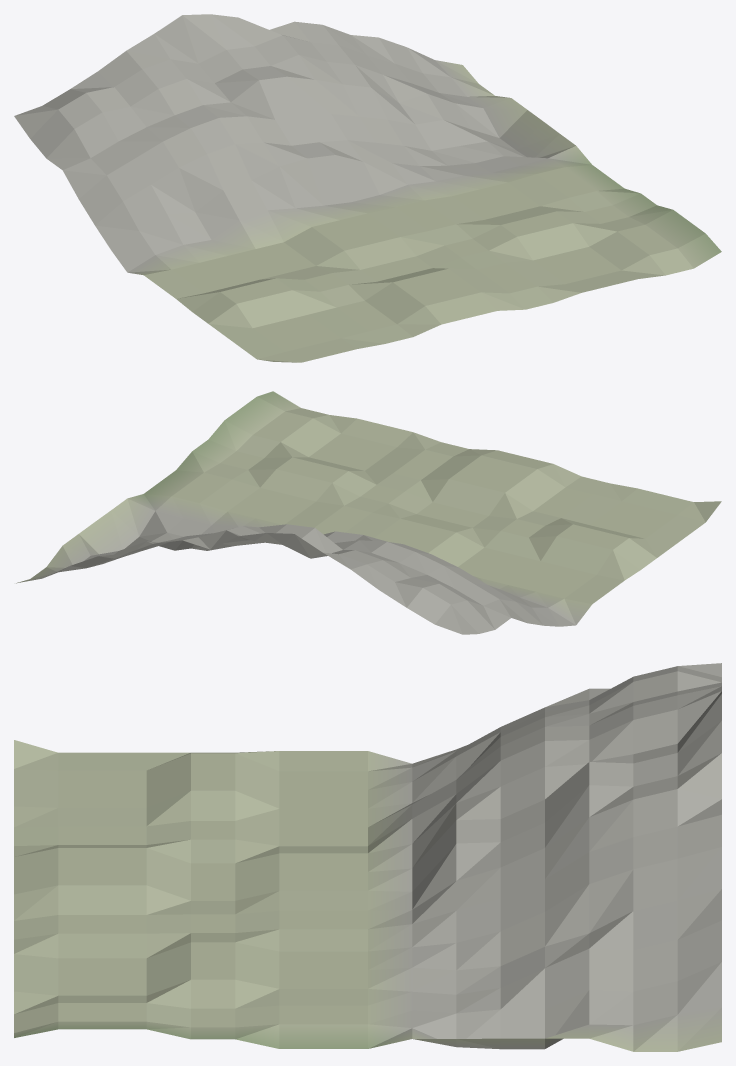
The picture shows the model from 3 angles, top to bottom: view 1: azimuth 30°, elevation 25°; view 2: azimuth 150°, elevation 25°; view 3: azimuth 270°, elevation 25°; orthographic projection. The views are drawn at different scales.
Bounding box in the file's own units: 32 × 9.34 × 32.
